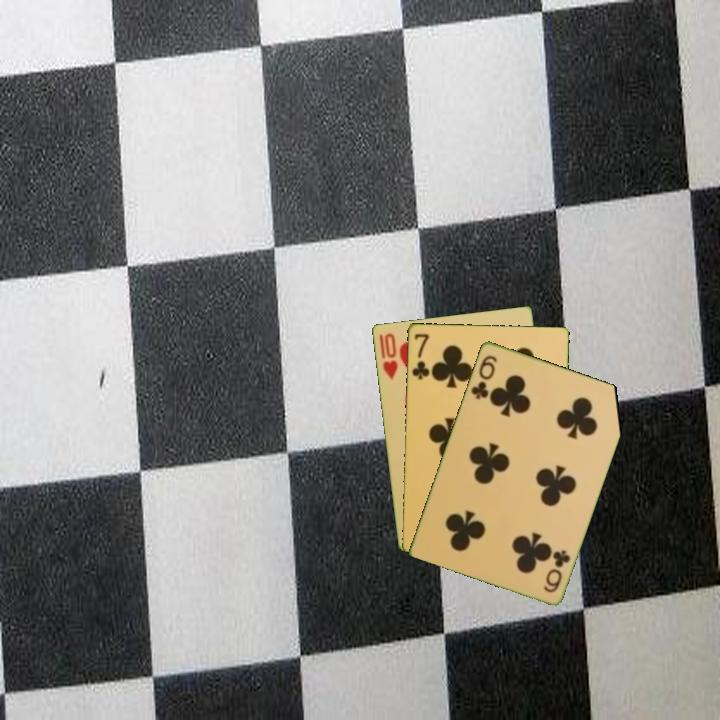10h: (375, 330, 401, 383)
6c: (467, 351, 500, 402), (539, 546, 573, 595)
7c: (408, 330, 432, 382)
